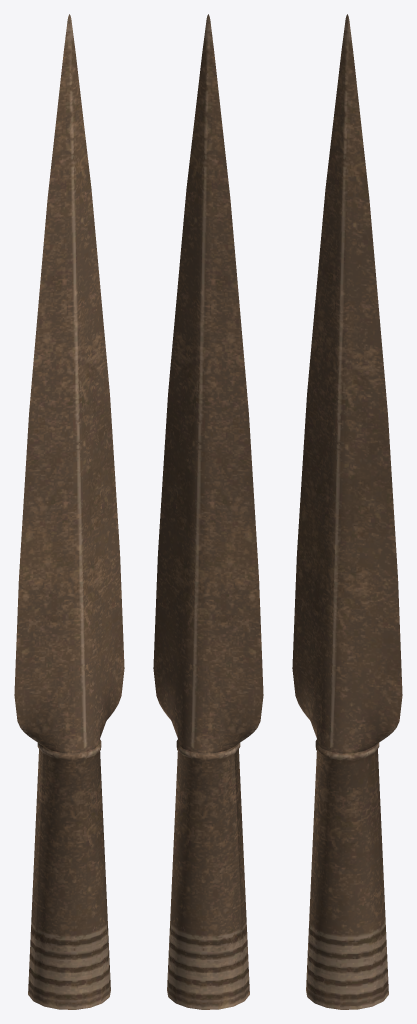
The model's file is dunland_caerdh_spear_head_c.fbx.
3 renders of one model, left to right at view 1: azimuth 30°, elevation 25°; view 2: azimuth 150°, elevation 25°; view 3: azimuth 330°, elevation 25°, orthographic.
Visible parts, largest first — view 1: dunland_caerdh_spear_head_c; view 2: dunland_caerdh_spear_head_c; view 3: dunland_caerdh_spear_head_c.
Boxes of the visible parts, box(x1,y1,x2,y2) form: dunland_caerdh_spear_head_c: box(14, 14, 124, 1009); dunland_caerdh_spear_head_c: box(153, 14, 263, 1009); dunland_caerdh_spear_head_c: box(292, 14, 402, 1009).
Bounding box in the file's own units: 0.0589 × 0.0387 × 0.5.
1 material, 1 textured.
